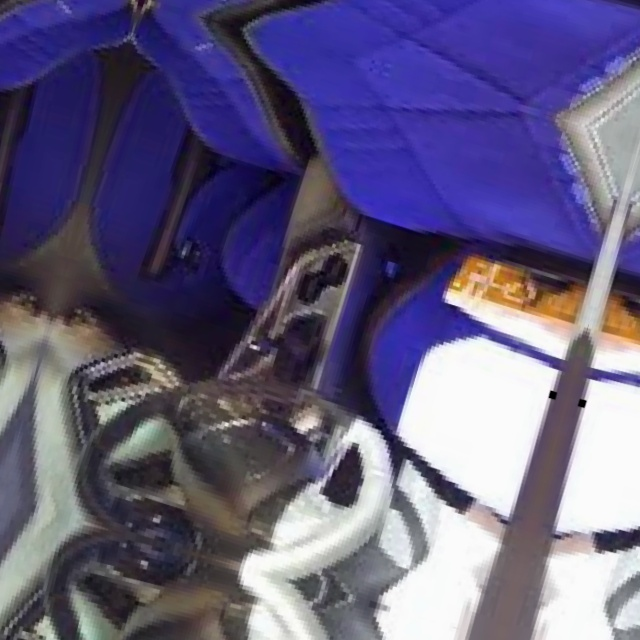ISA: (489, 273, 537, 311)
